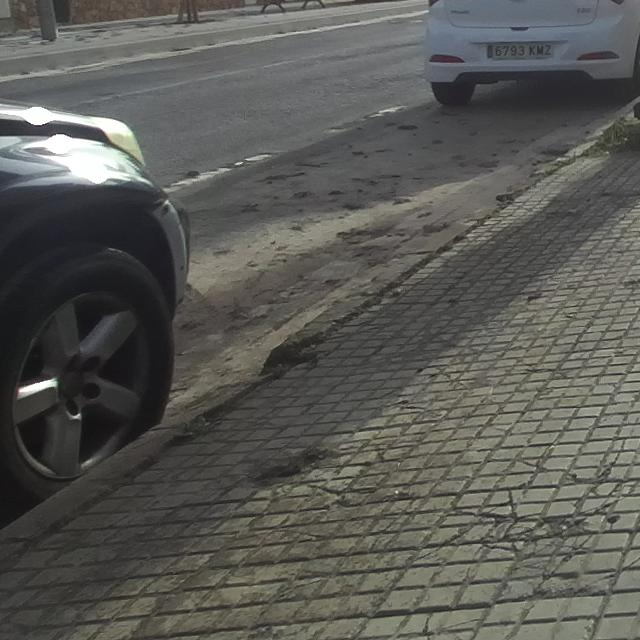calcada_quebrada: (404, 482, 640, 601), (367, 610, 485, 640), (592, 412, 640, 479), (495, 456, 581, 480)
